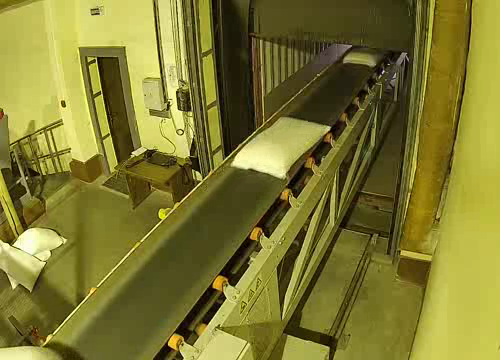bag: (228, 112, 334, 181), (0, 336, 71, 360), (339, 41, 393, 68)
